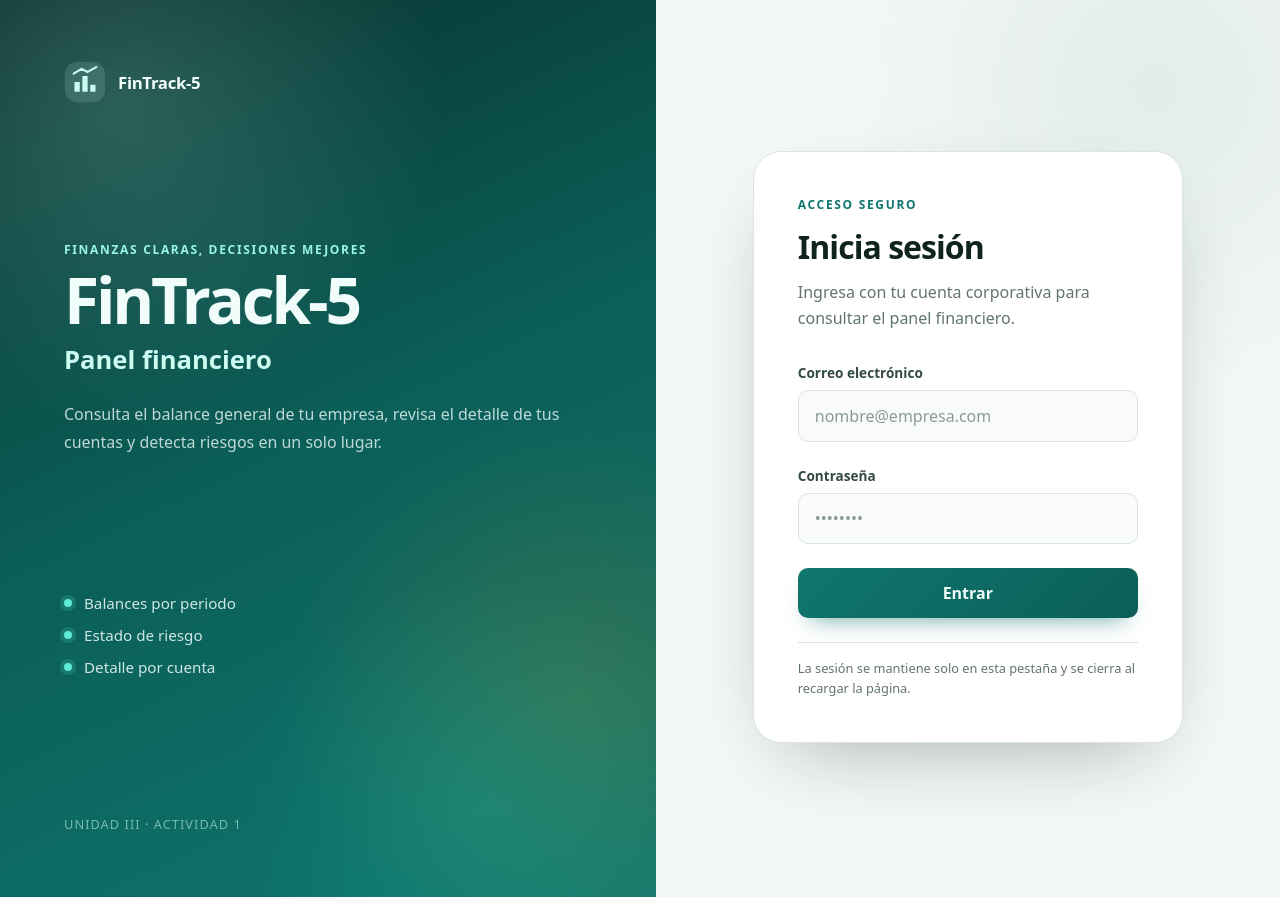
Scenario: AccountsTable › no muestra cuentas ni importes ficticios durante la carga
Later steps or results of the test are not shown.
Type "admin_a@test.local" into the field labelled "Correo electrónico" at coordinates (968, 416), box [798, 390, 1138, 442]
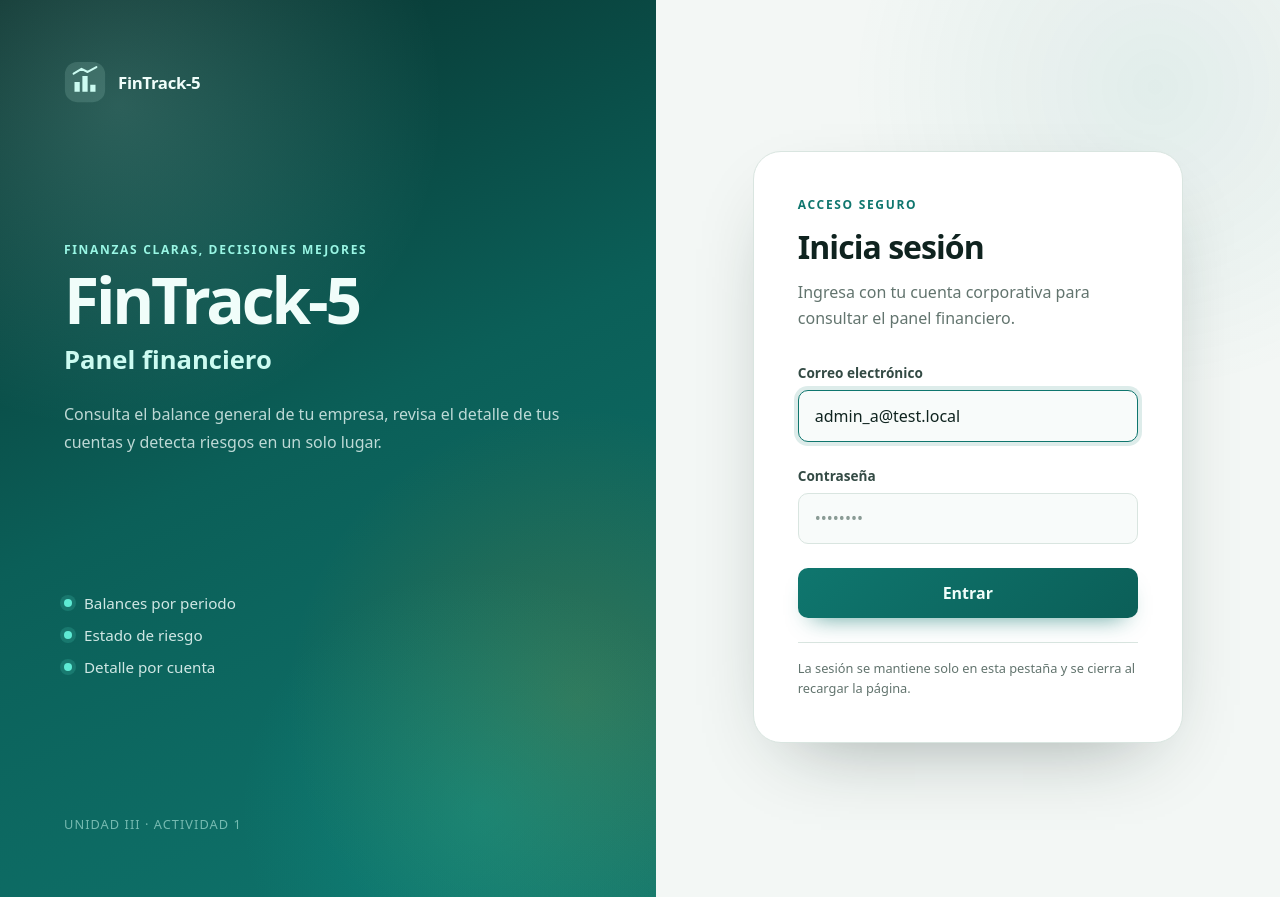
Type "clave-correcta" into the password field labelled "Contraseña" at coordinates (968, 518), box [798, 492, 1138, 544]
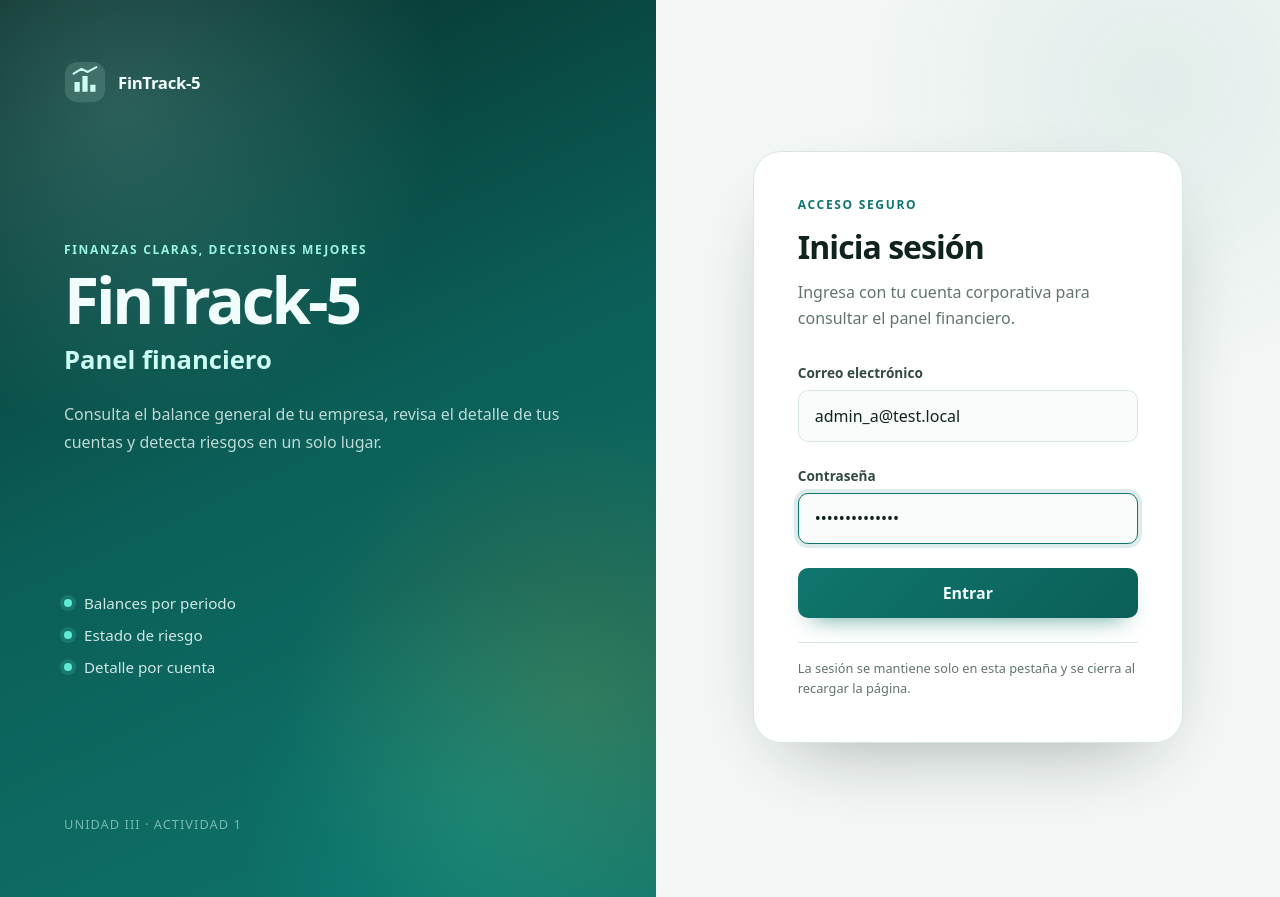
Click the button "Entrar" at coordinates (968, 593), box [798, 568, 1138, 618]
(page scrolled)
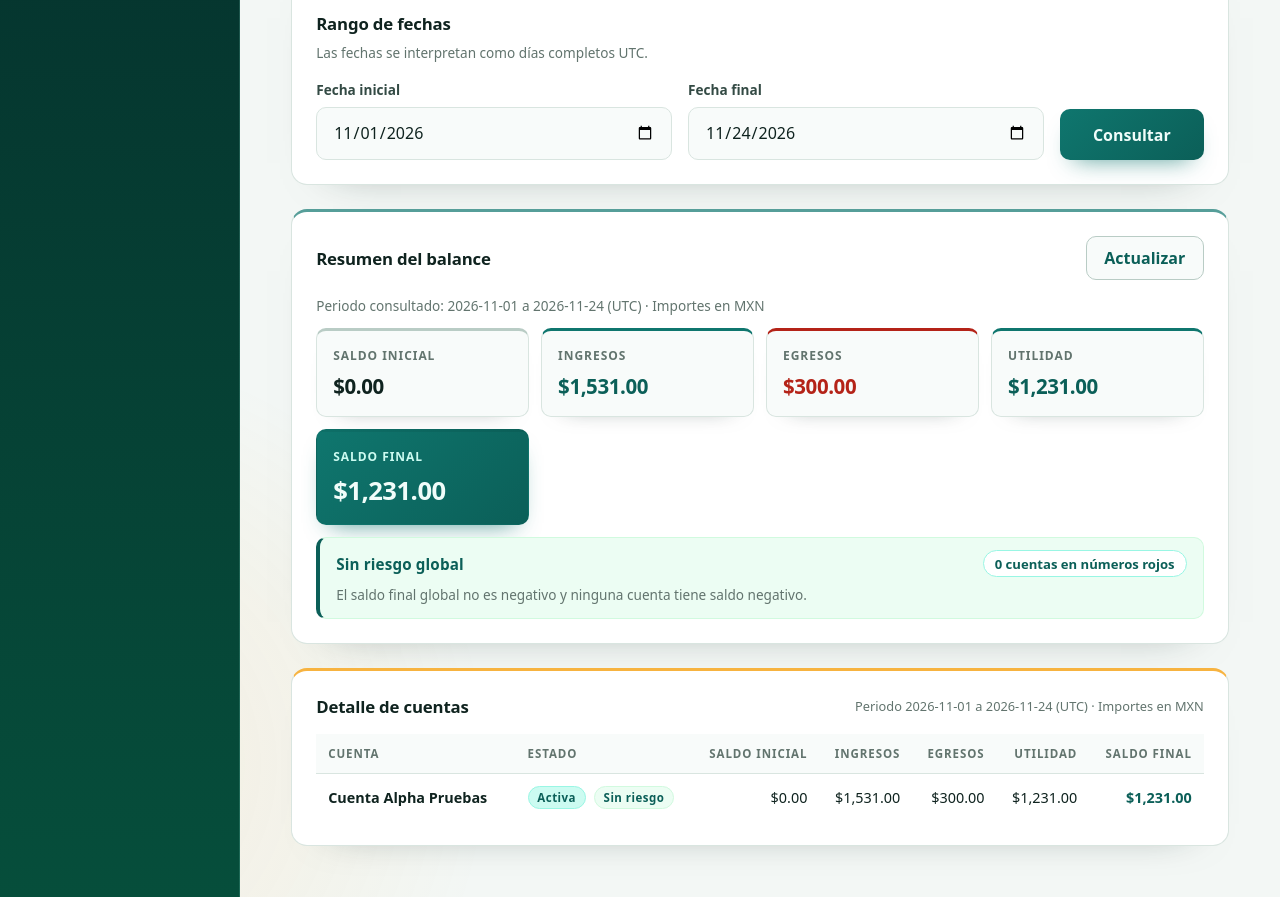
Expected: the column heading "Cuenta Alpha Pruebas" is shown, [316, 774, 516, 821]
